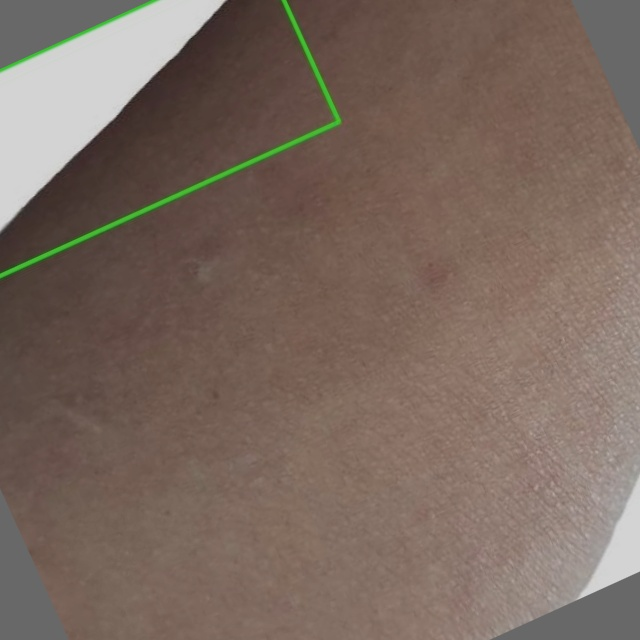Tinea Corporis: (0, 0, 339, 275)
